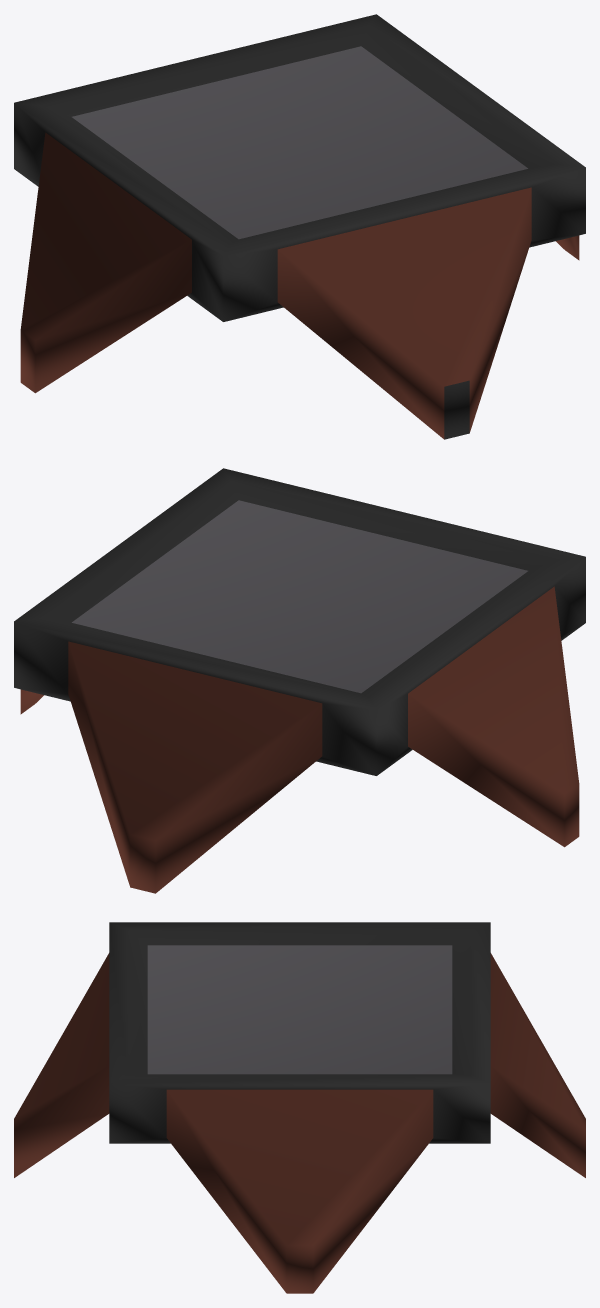
The model's file is bossguns.fbx.
3 renders of one model, top to bottom at view 1: azimuth 30°, elevation 25°; view 2: azimuth 150°, elevation 25°; view 3: azimuth 270°, elevation 25°, orthographic. The views are drawn at different scales.
Visible parts, largest first — view 1: boss_guns; view 2: boss_guns; view 3: boss_guns.
Boxes of the visible parts, x1=… form: boss_guns: x1=14, y1=14, x2=585, y2=439; boss_guns: x1=14, y1=468, x2=585, y2=893; boss_guns: x1=14, y1=922, x2=585, y2=1293.
Bounding box in the file's own units: 1.31 × 0.4305 × 1.31.
